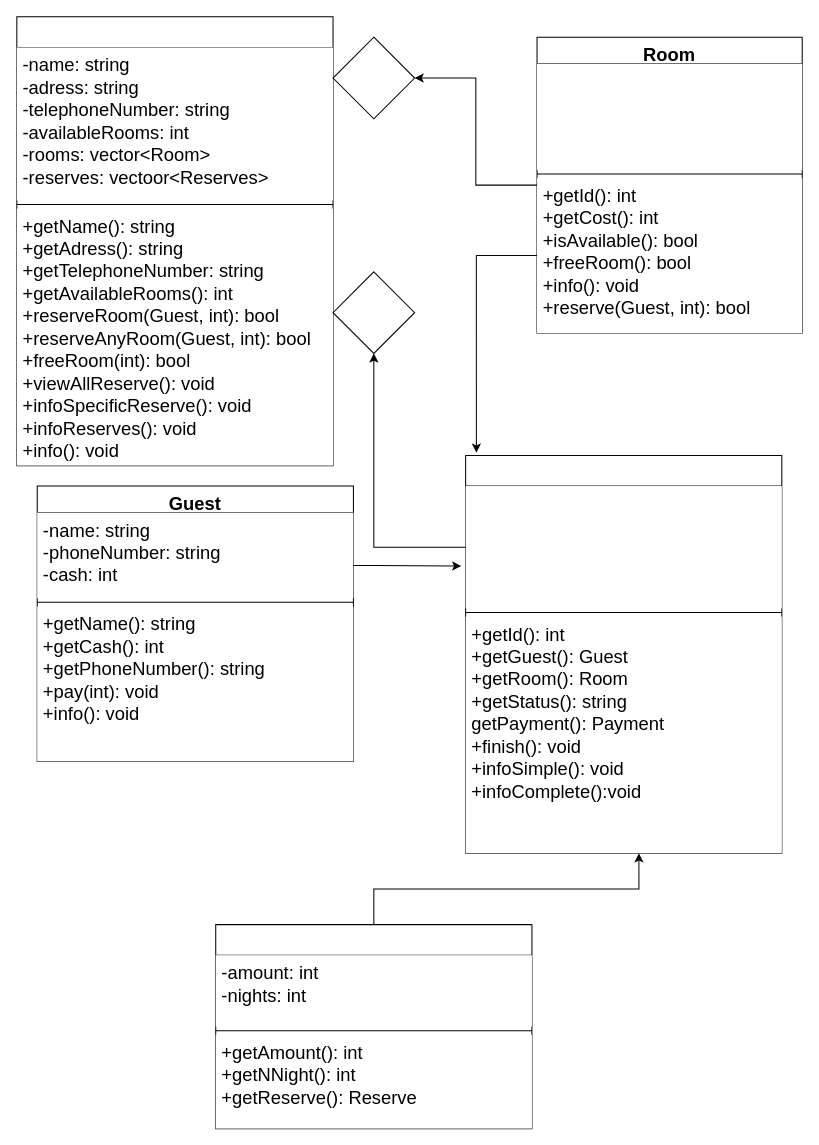
This 819x1145 diagram has some shape labels left out. Each missing label, with the box of its shape:
-id: int -available: bool -cost: int: (537, 63, 802, 169)
-id: int -guestRef: Guest -roomRef: Room -status: string -paymentRef: Payment: (465, 486, 781, 608)
Hotel: (16, 16, 333, 466)
Payment: (215, 924, 532, 1129)
Reserve: (465, 454, 782, 853)
